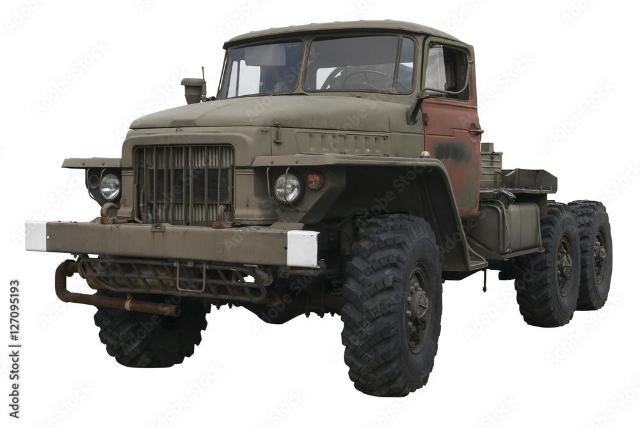truck: (44, 7, 625, 375)
